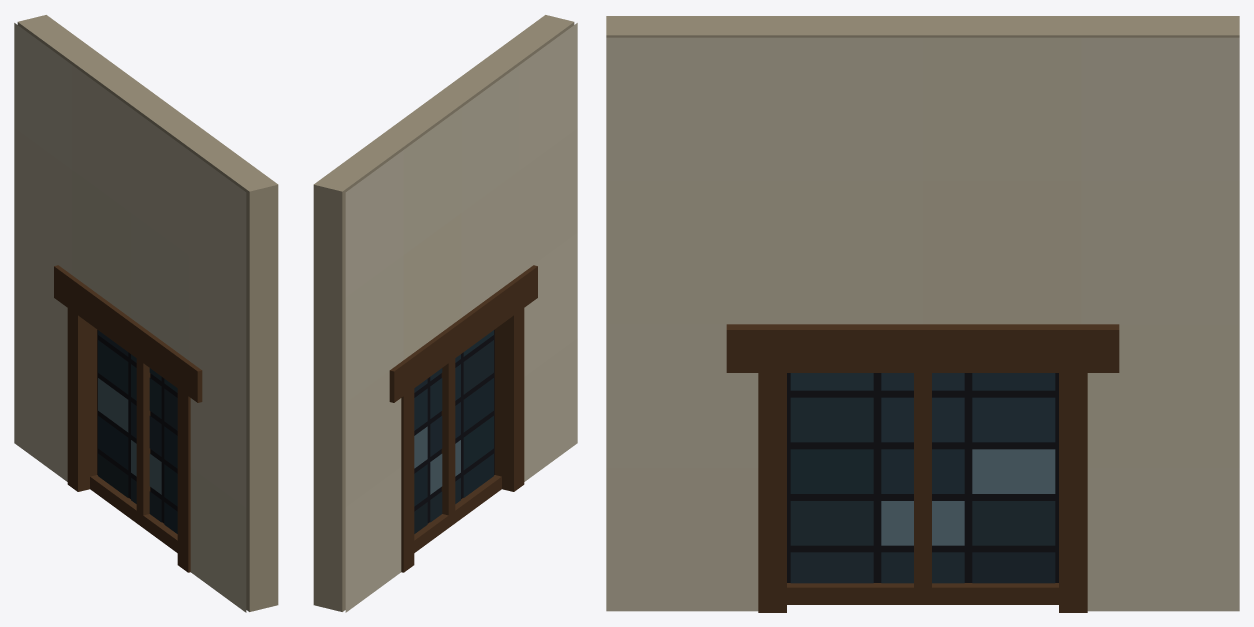
File: wall-plaster-window-high.glb
3 renders of one model, left to right at view 1: azimuth 30°, elevation 25°; view 2: azimuth 150°, elevation 25°; view 3: azimuth 270°, elevation 25°, orthographic. The views are drawn at different scales.
Parts seen in each view (by area): view 1: wall-plaster-window-high; view 2: wall-plaster-window-high; view 3: wall-plaster-window-high.
Boxes of the visible parts, x1,y1,x2,y2 form: wall-plaster-window-high: (14, 15, 278, 612); wall-plaster-window-high: (313, 15, 577, 612); wall-plaster-window-high: (606, 16, 1239, 612).
Size of the model in its own units: 0.12 by 1 by 1.
